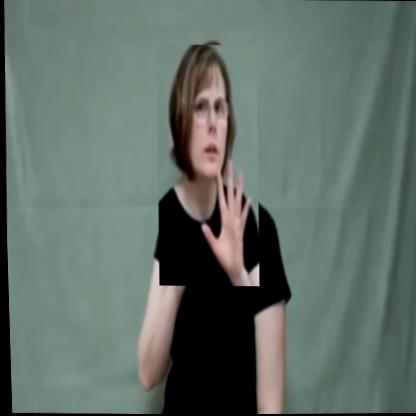Talk: (152, 44, 261, 287)
